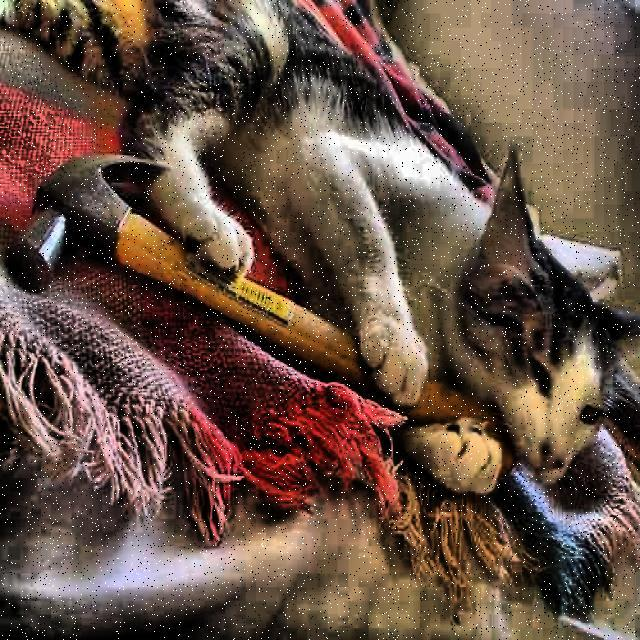hammer: (9, 149, 518, 483)
